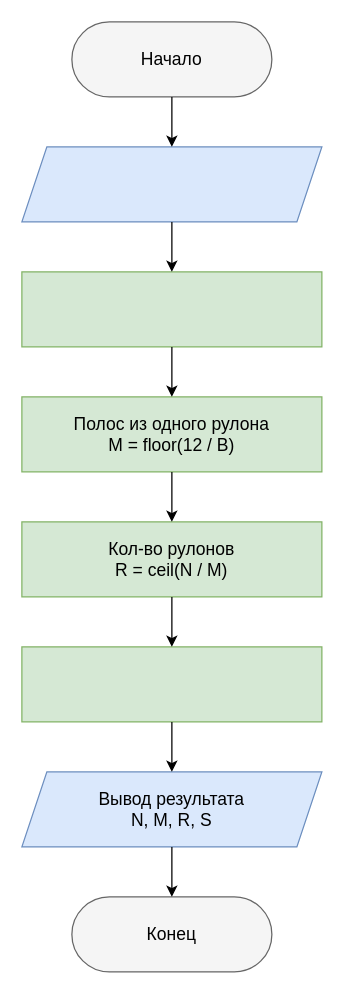
This 344x994 diagram has some shape labels left out. Here are the shapes that lost their labels. From the top down, the box of each, then its label:
(21, 146, 322, 222): Ввод данных A, B, K
(21, 271, 322, 347): Полос по длине стены N = ceil(A / 1)
(21, 646, 322, 722): Стоимость обоев S = R * K
